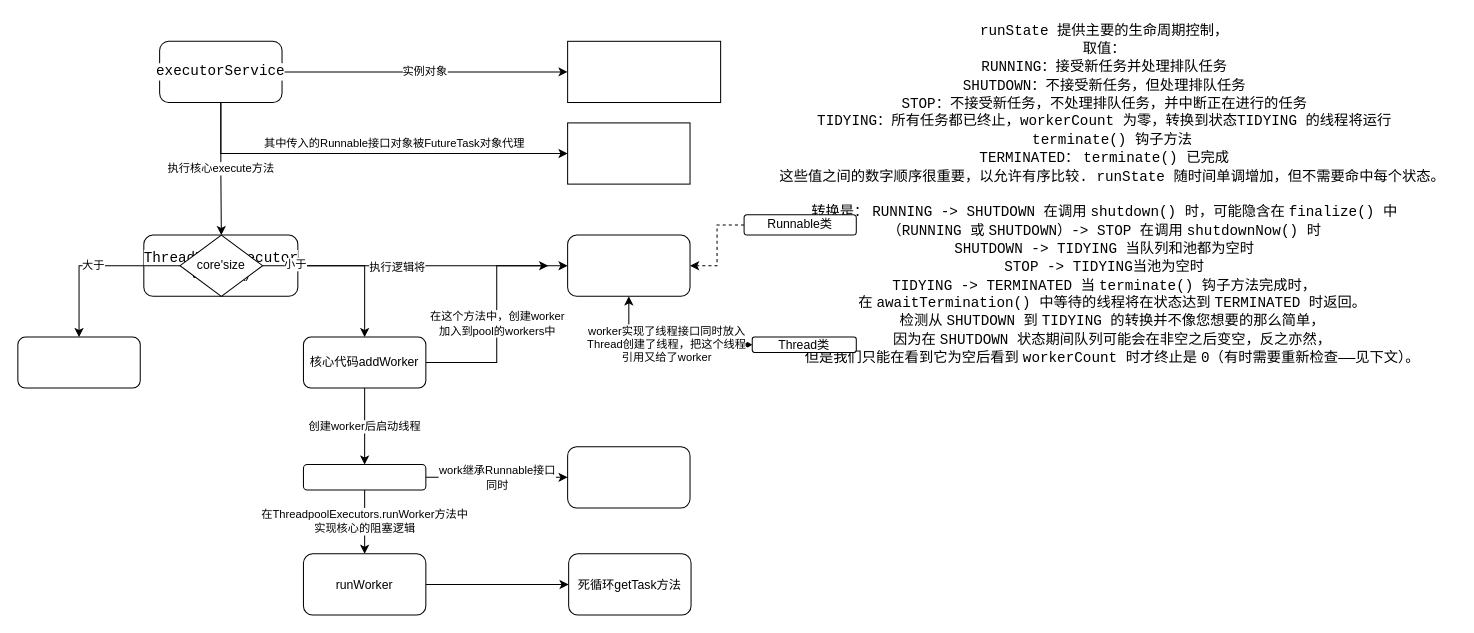
Some shapes in this 1474 by 633 pixel diagram are drawn without their labels. Here are the shapes that lost their labels. From the top down, the centre of each, then its label:
At pixel 644 71: "ThreadPoolExecutor 包含了works 和workQueue".
At pixel 628 153: "FutureTask对象".
At pixel 628 265: "worker".
At pixel 364 477: "worker.start".
